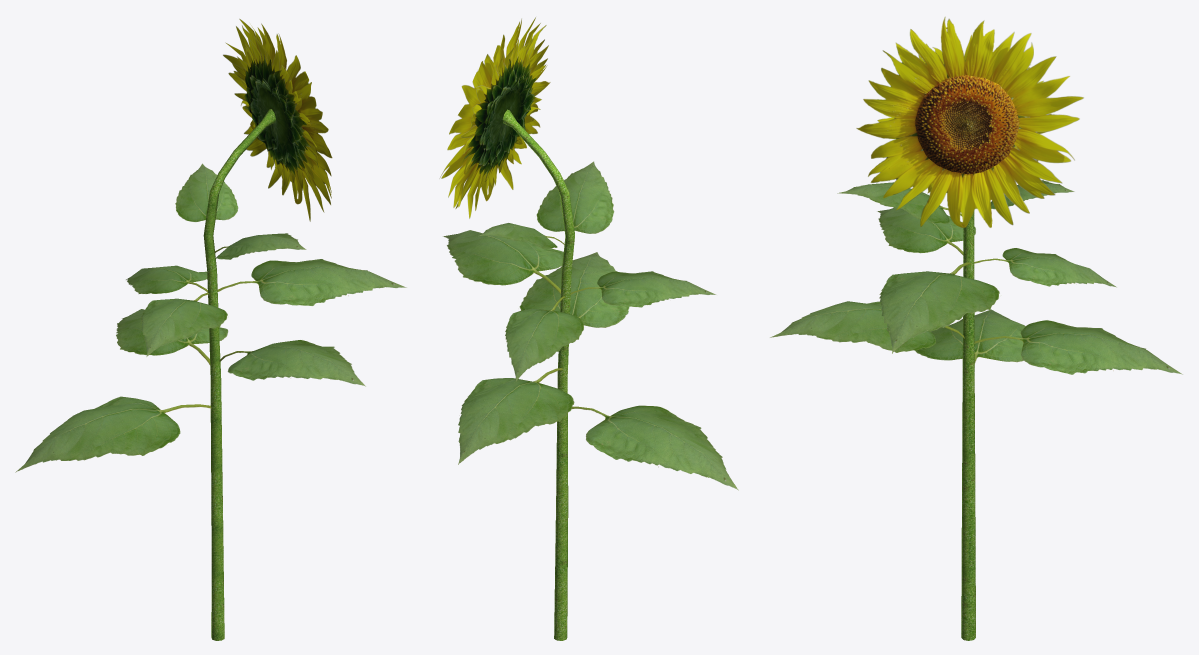
The model's file is wwwunderkammer_Regine_Asset_sunflower.glb.
The picture shows the model from 3 angles, left to right: view 1: azimuth 30°, elevation 25°; view 2: azimuth 150°, elevation 25°; view 3: azimuth 270°, elevation 25°; orthographic projection. The views are drawn at different scales.
Visible parts, largest first — view 1: sunflower; view 2: sunflower; view 3: sunflower.
Part boxes in pixels (bbox=[...]): sunflower: bbox=[15, 18, 406, 640]; sunflower: bbox=[439, 17, 738, 640]; sunflower: bbox=[770, 16, 1182, 640].
Bounding box in the file's own units: 138 × 229 × 133.
Materials: 1 (1 with a texture image).
